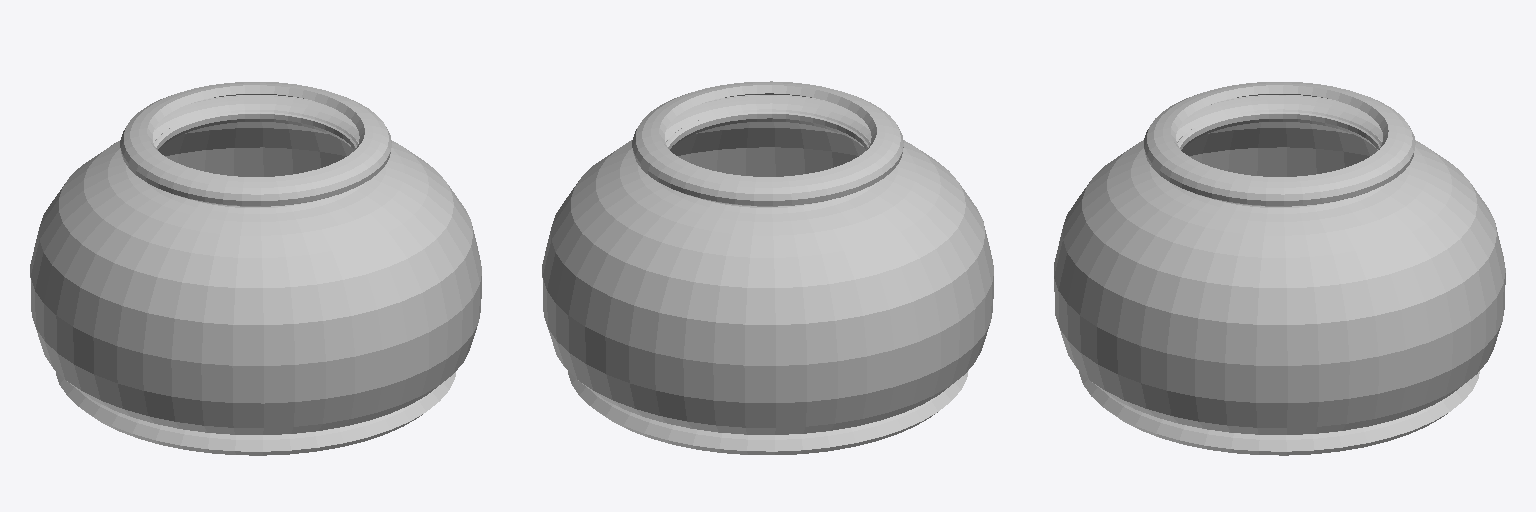
File: FishSketchfab.obj
The picture shows the model from 3 angles: view 1: azimuth 30°, elevation 25°; view 2: azimuth 150°, elevation 25°; view 3: azimuth 270°, elevation 25°; orthographic projection.
Visible parts, largest first — view 1: revolvedSurface1; view 2: revolvedSurface1; view 3: revolvedSurface1.
Boxes of the visible parts, x1,y1,x2,y2 form: revolvedSurface1: [30, 82, 481, 455]; revolvedSurface1: [542, 81, 993, 454]; revolvedSurface1: [1054, 82, 1505, 455].
Size of the model in its own units: 27.1 by 16.52 by 27.08.